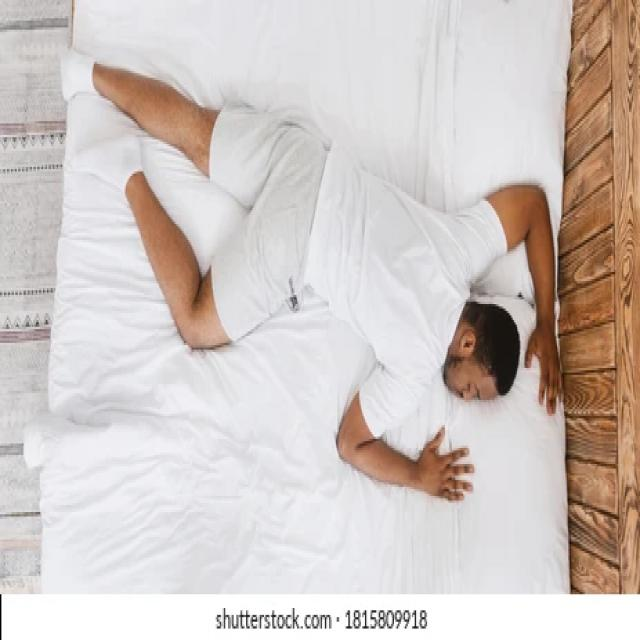people: (47, 29, 573, 510)
